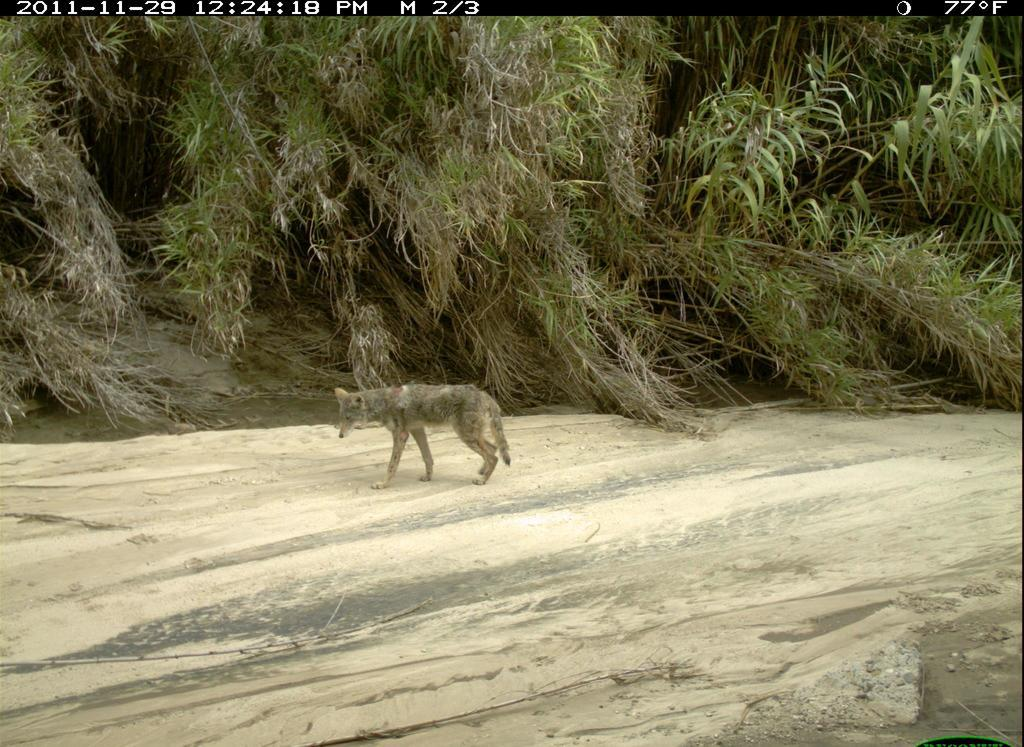coyote: (327, 376, 523, 495)
